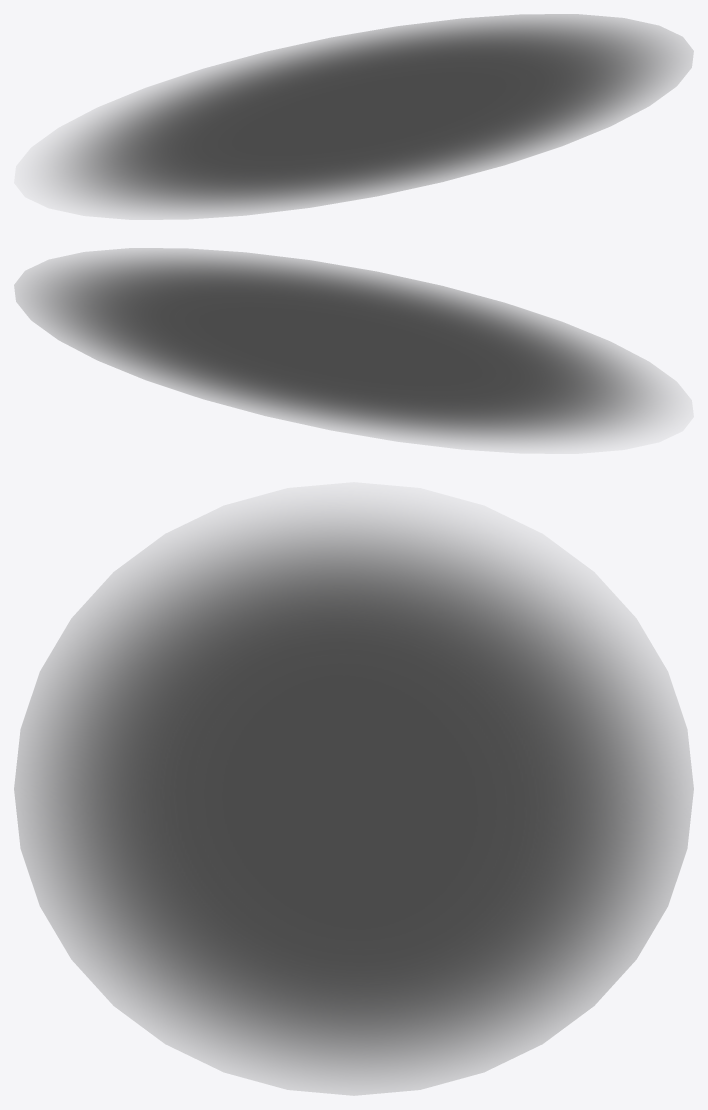
The model's file is player.glb.
3 views of the same model, one above another, from view 1: azimuth 30°, elevation 25°; view 2: azimuth 150°, elevation 25°; view 3: azimuth 270°, elevation 25° (orthographic). The views are drawn at different scales.
Parts seen in each view (by area): view 1: Cercle; view 2: Cercle; view 3: Cercle.
Part boxes in pixels (x1,y1,x2,y2): Cercle: (34, 14, 693, 219); Cercle: (14, 248, 682, 450); Cercle: (14, 499, 693, 1095).
Bounding box in the file's own units: 5.25 × 0 × 2.46.
Materials: 1 (1 with a texture image).
